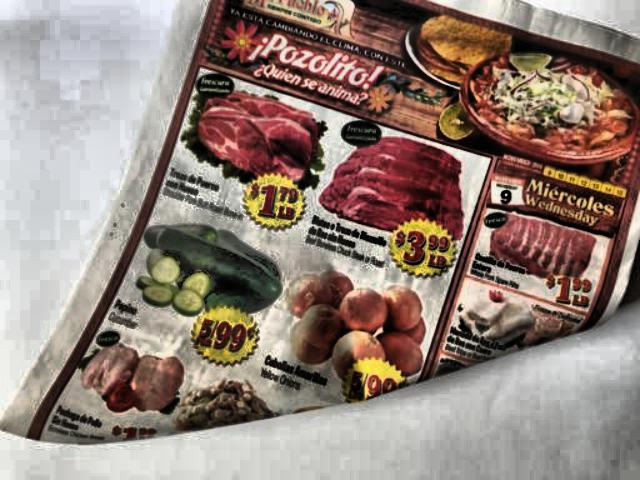Paper: (7, 0, 640, 453)
